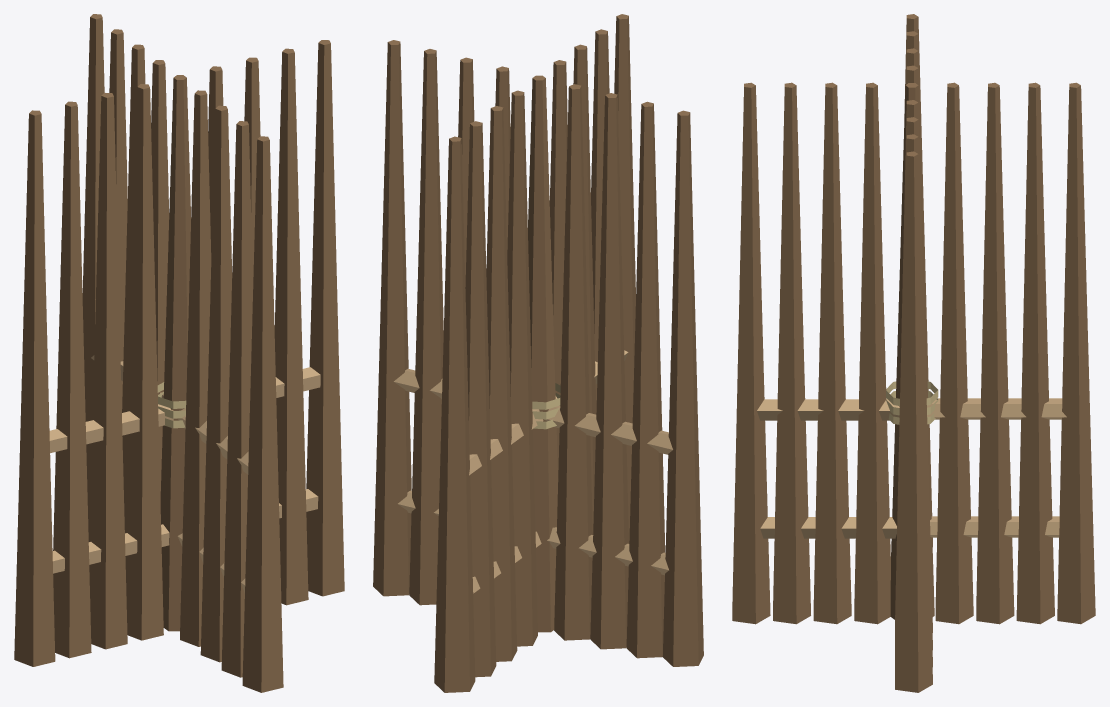
The model's file is palisade_0f.glb.
3 renders of one model, left to right at view 1: azimuth 30°, elevation 25°; view 2: azimuth 150°, elevation 25°; view 3: azimuth 270°, elevation 25°, orthographic. The views are drawn at different scales.
Parts seen in each view (by area): view 1: palisade_0f; view 2: palisade_0f; view 3: palisade_0f.
Part boxes in pixels (left/top/right/bottom): palisade_0f: left=14, top=14, right=344, bottom=692; palisade_0f: left=373, top=14, right=703, bottom=692; palisade_0f: left=732, top=14, right=1095, bottom=692.
Size of the model in its own units: 1.12 by 1.8 by 1.12.
